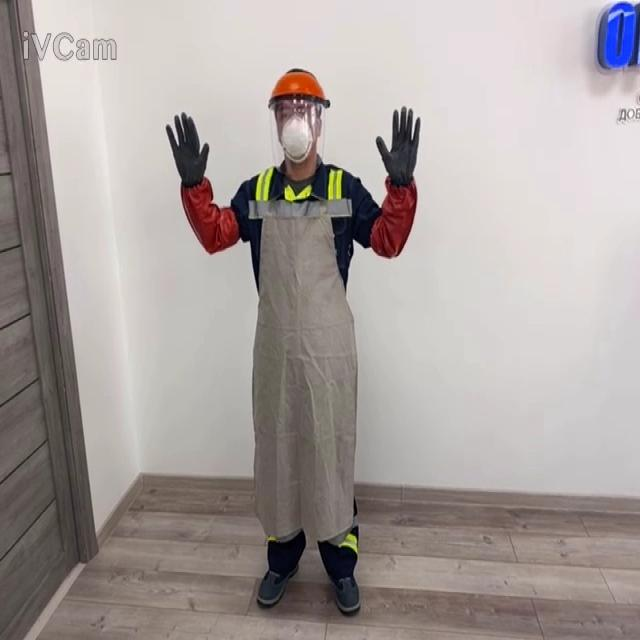Gloves: (375, 105, 420, 187), (165, 111, 209, 188)
Mask: (279, 111, 314, 164)
Protective apron: (249, 196, 358, 544)
Safety Shoes: (256, 563, 299, 605), (331, 574, 360, 614)
Sleeve: (180, 175, 239, 253), (369, 173, 417, 259)
